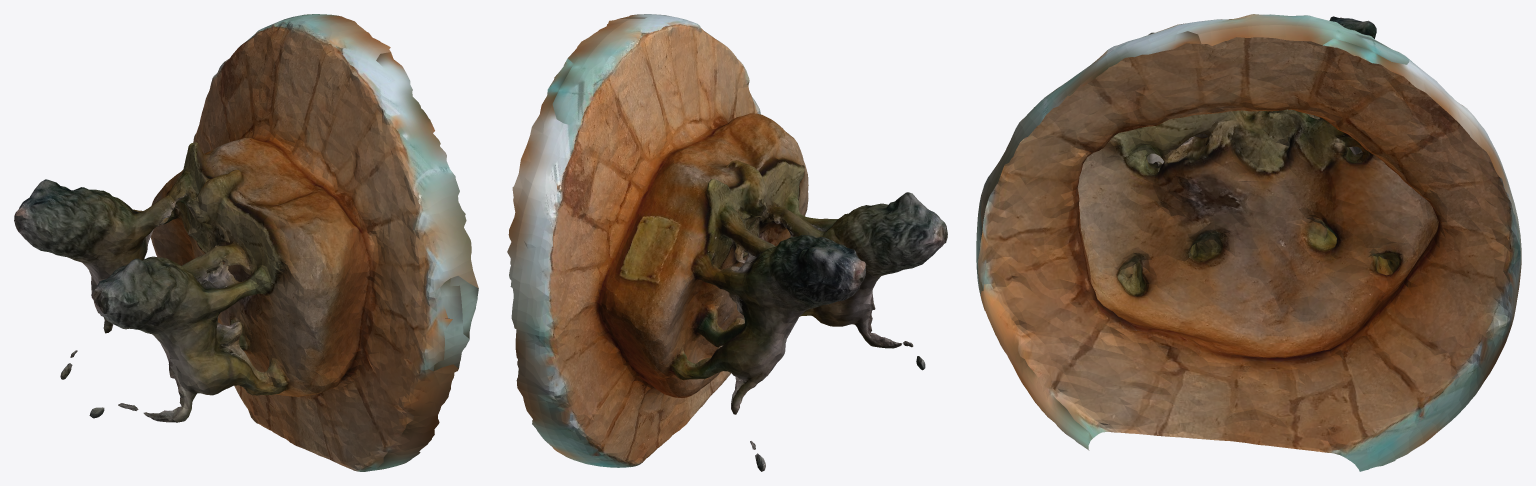
The model's file is leones.obj.
The picture shows the model from 3 angles, left to right: view 1: azimuth 30°, elevation 25°; view 2: azimuth 150°, elevation 25°; view 3: azimuth 270°, elevation 25°; orthographic projection. The views are drawn at different scales.
Bounding box in the file's own units: 21.94 × 26.45 × 28.15.
Materials: 1 (1 with a texture image).
